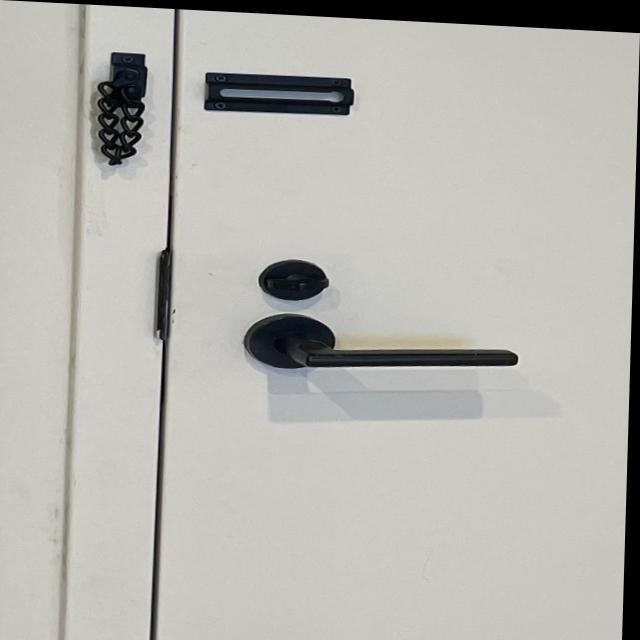door_handle: (243, 320, 538, 389)
